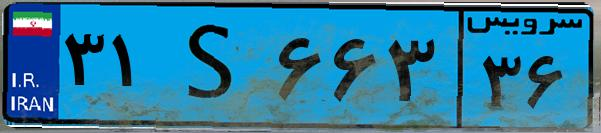1: (110, 28, 158, 98)
3: (385, 28, 445, 110), (57, 26, 110, 100), (475, 38, 525, 113)
6: (270, 28, 330, 110), (330, 28, 385, 110), (525, 38, 570, 115)
S: (158, 12, 270, 120)
